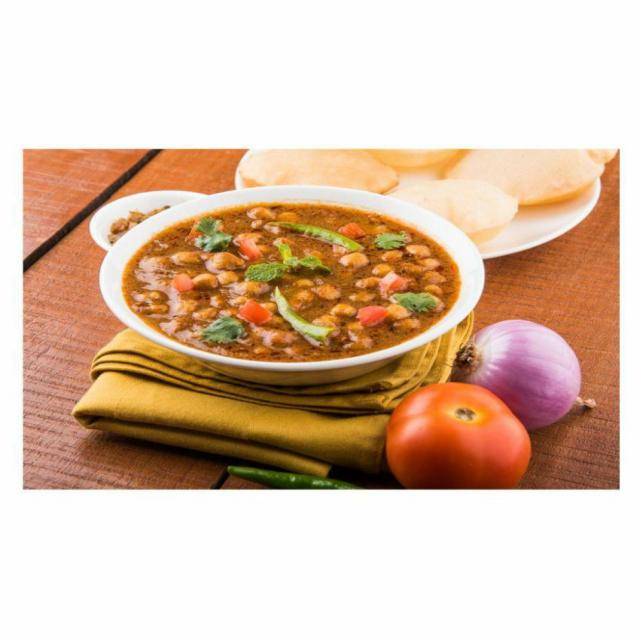Chole: (124, 204, 461, 362)
